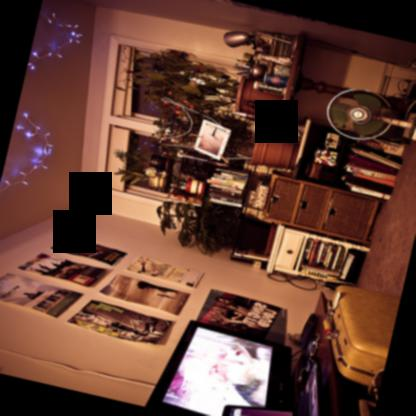suitcase: (323, 283, 401, 389)
